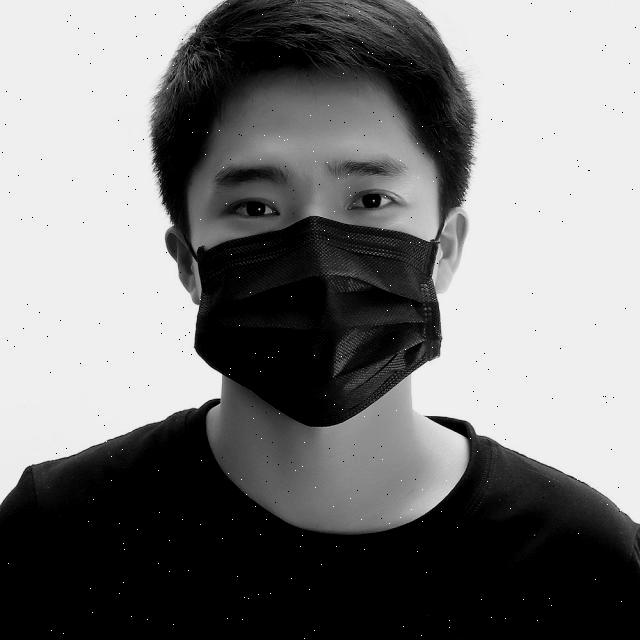fake: (197, 217, 446, 435)
real: (195, 77, 443, 433)
